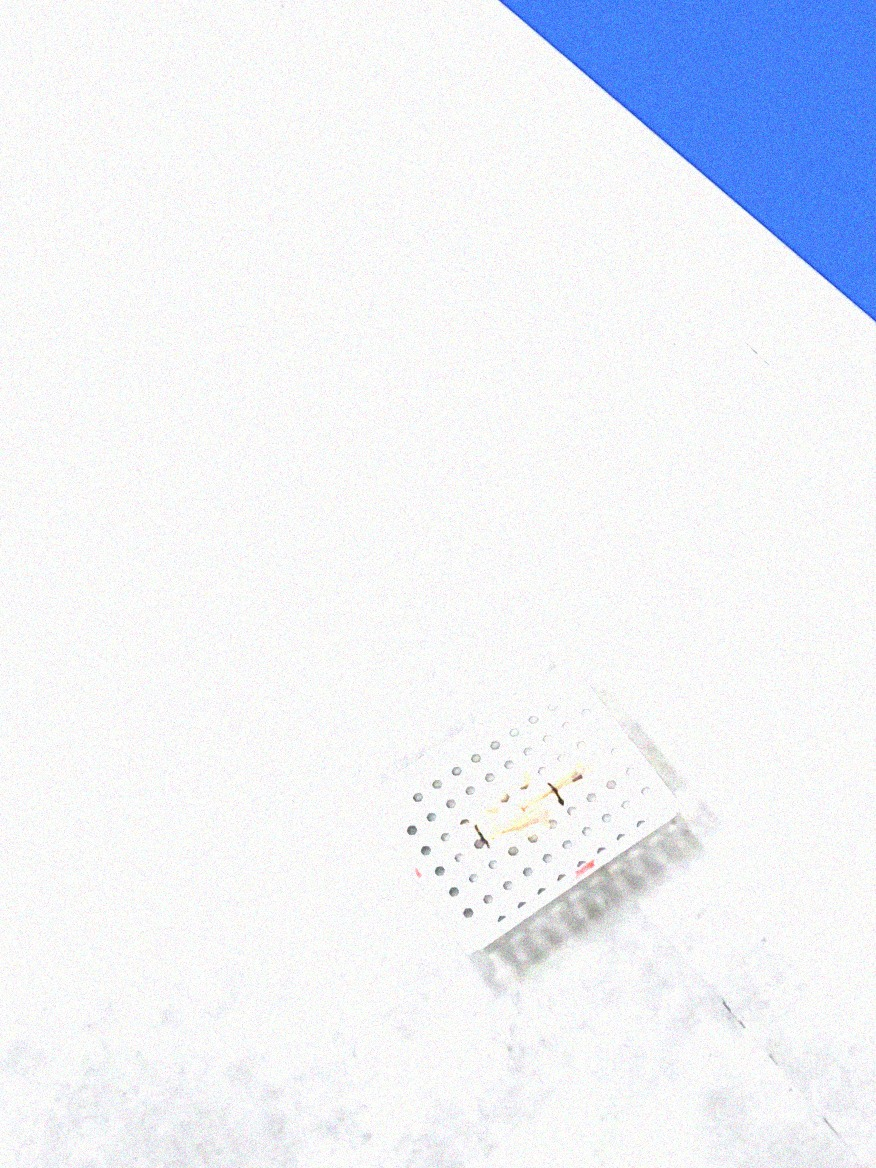basket: (355, 656, 689, 974)
mannequin: (450, 758, 603, 869)
